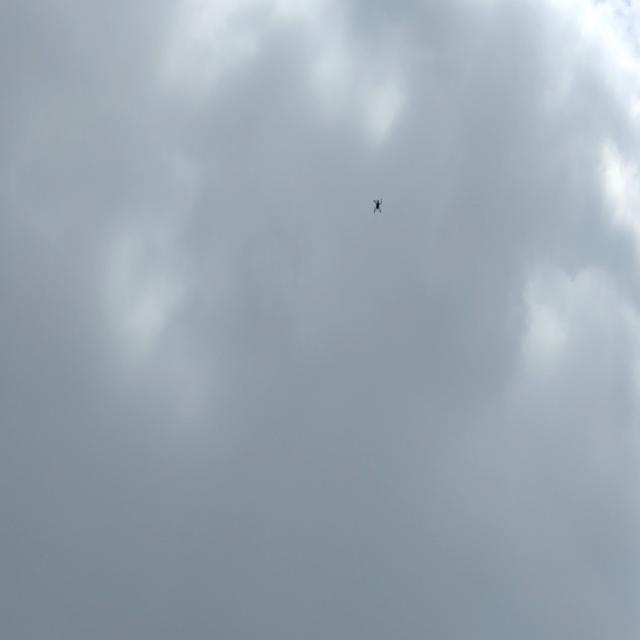drone: (371, 195, 388, 218)
